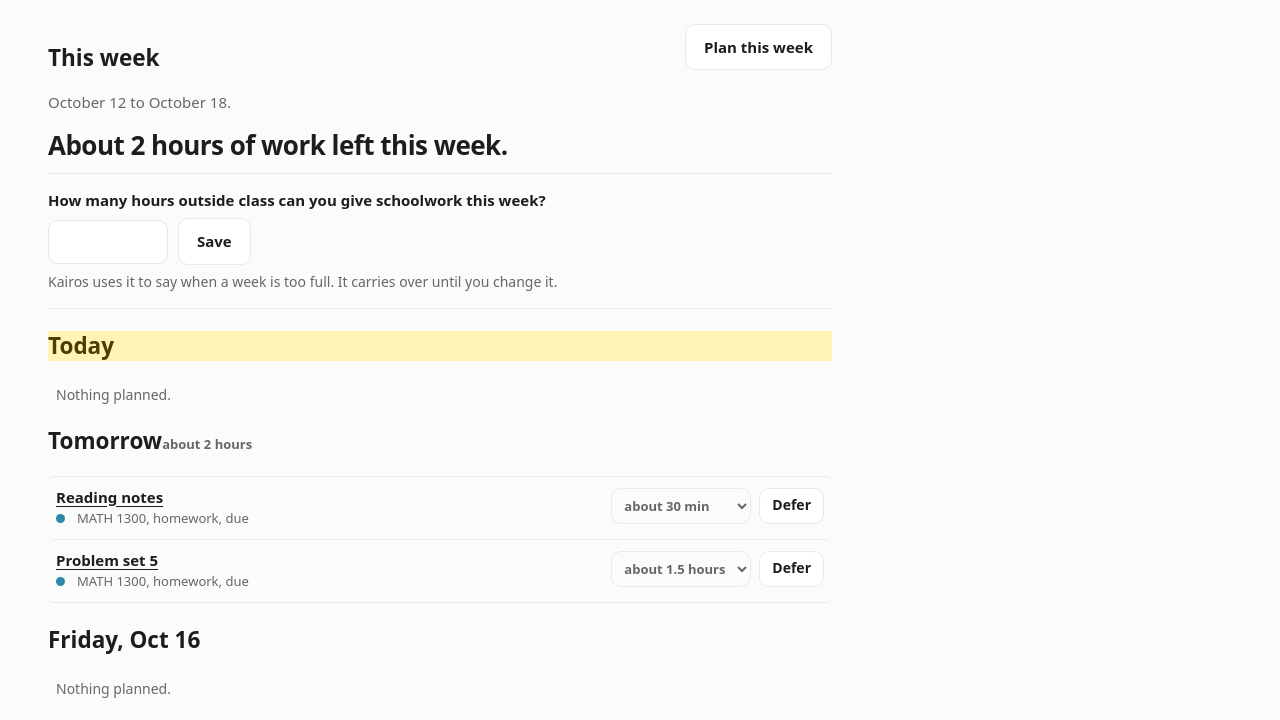
Scenario: WeekView › plans the week in three steps and only uses the order after a yes
This screenshot has width=1280, height=720.
Click the button "Plan this week" at (758, 47), box [685,24,832,70]
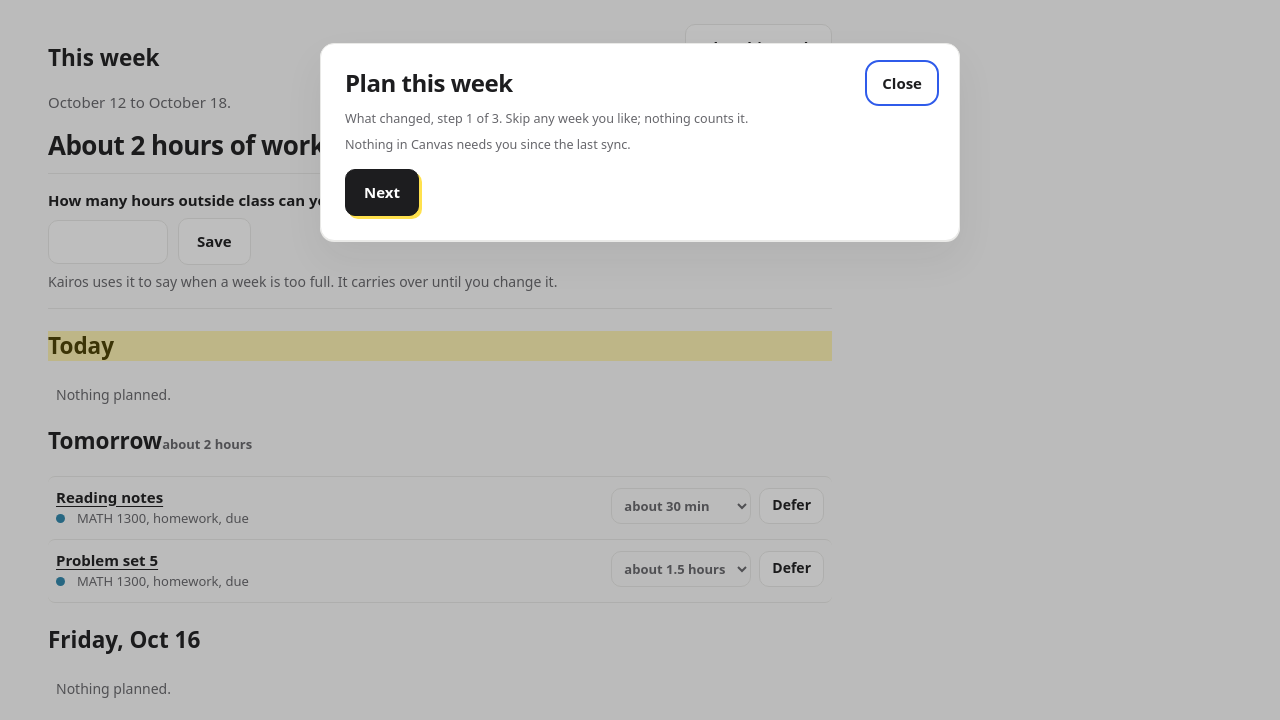
Check: the dialog "Plan this week" shows "step 1 of 3", box [320,43,960,241]
Click the button "Next" at (382, 193), box [345,169,419,216]
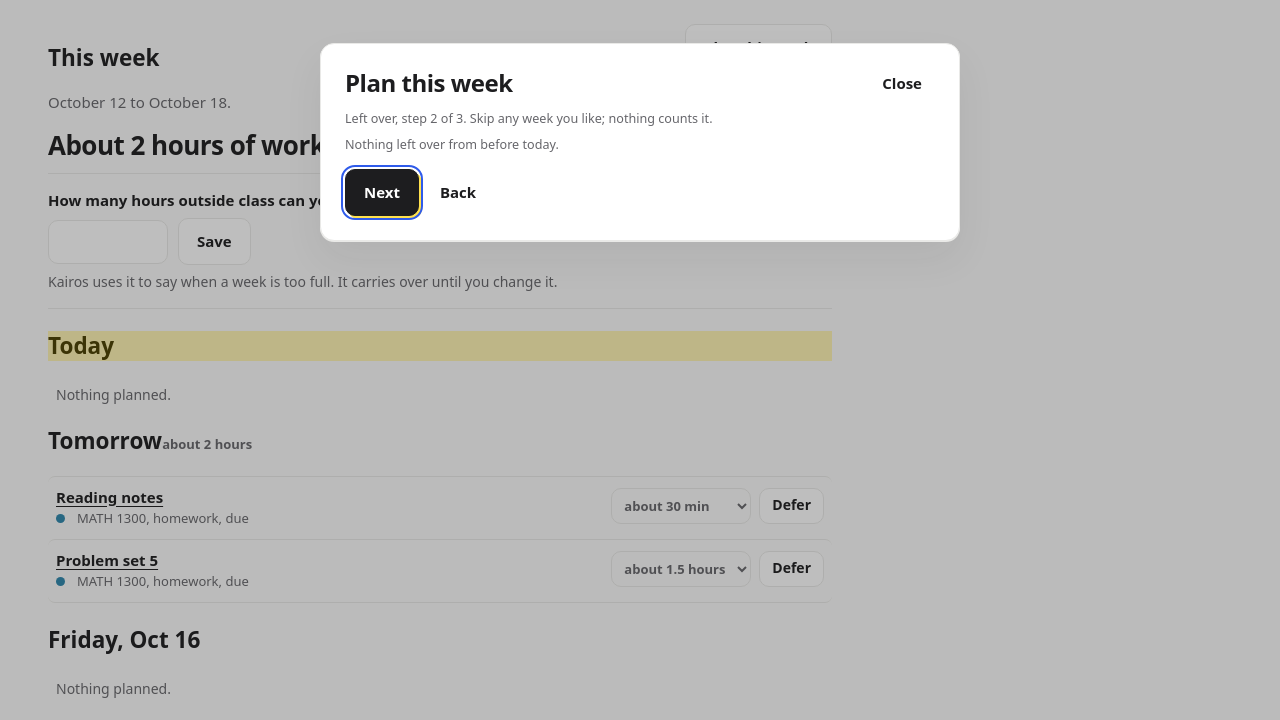
Click the button "Next" at (382, 193), box [345,169,419,216]
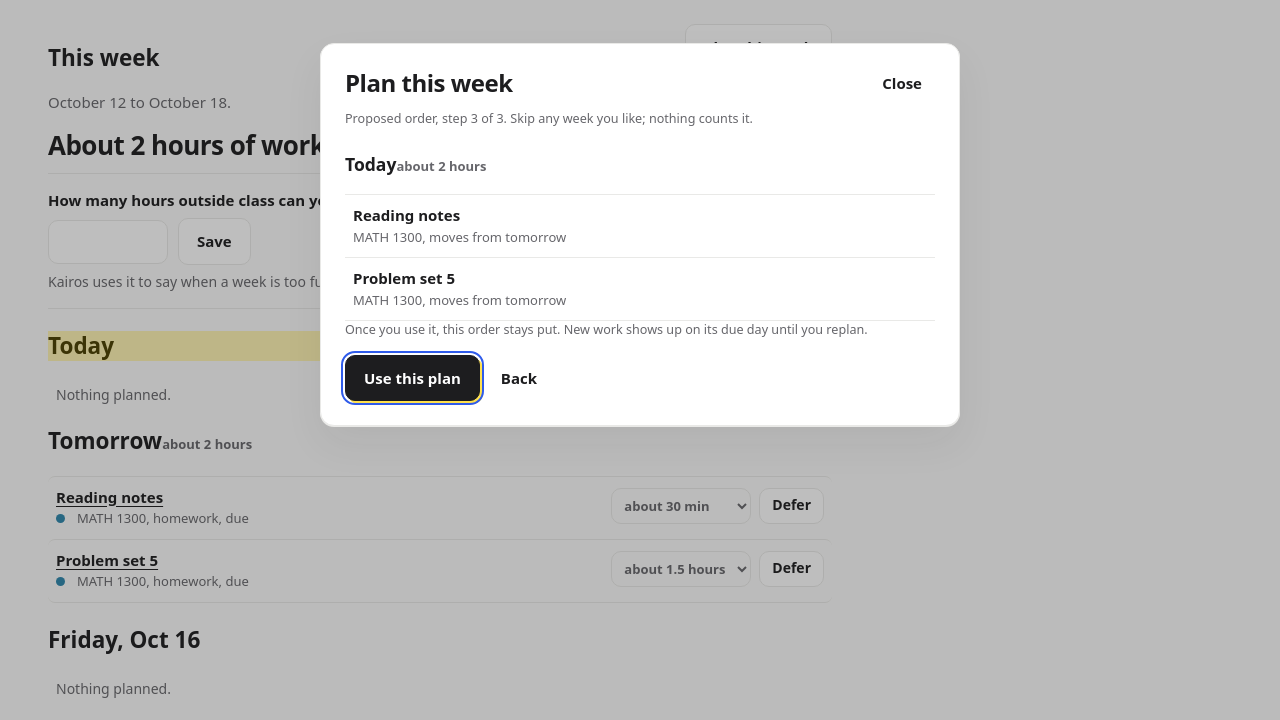
Check: the dialog "Plan this week" shows "Once you use it, this order stays put.", box [345,322,868,339]
Click the button "Use this plan" at (412, 378), box [345,355,480,402]
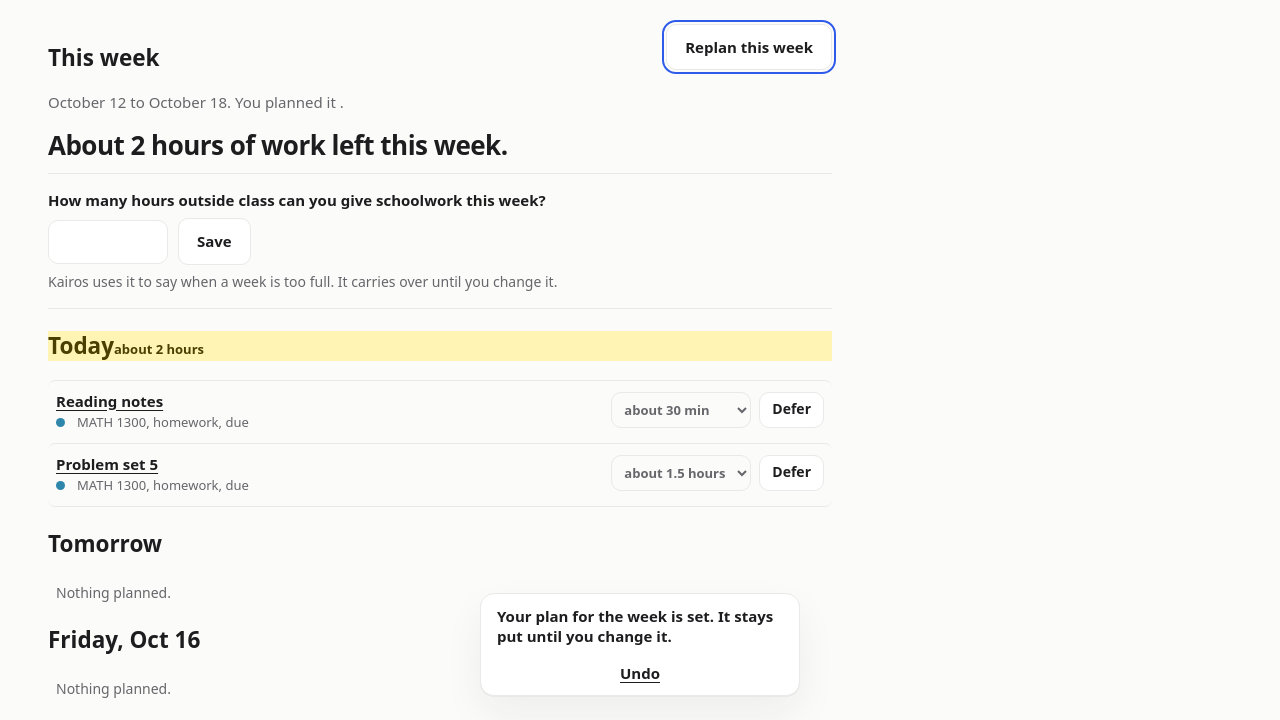
Check: the dialog is gone
Check: the button "Replan this week" is shown, box [666,24,832,70]
Check: the message shows "stays put until you change it", box [497,606,773,647]
